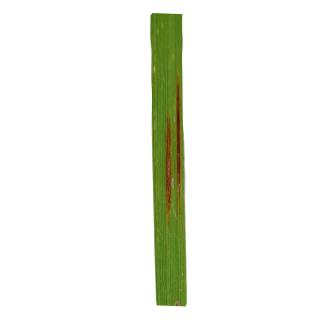Bercak-Cokelat-Sempit: (175, 79, 187, 219), (160, 109, 174, 227)
